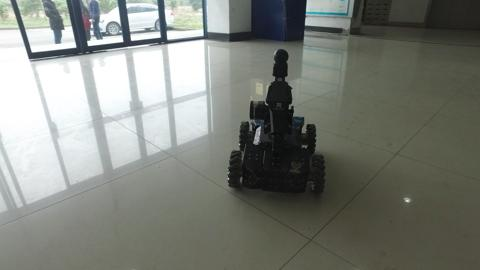car: (86, 1, 176, 36)
chariot: (226, 47, 326, 196)
